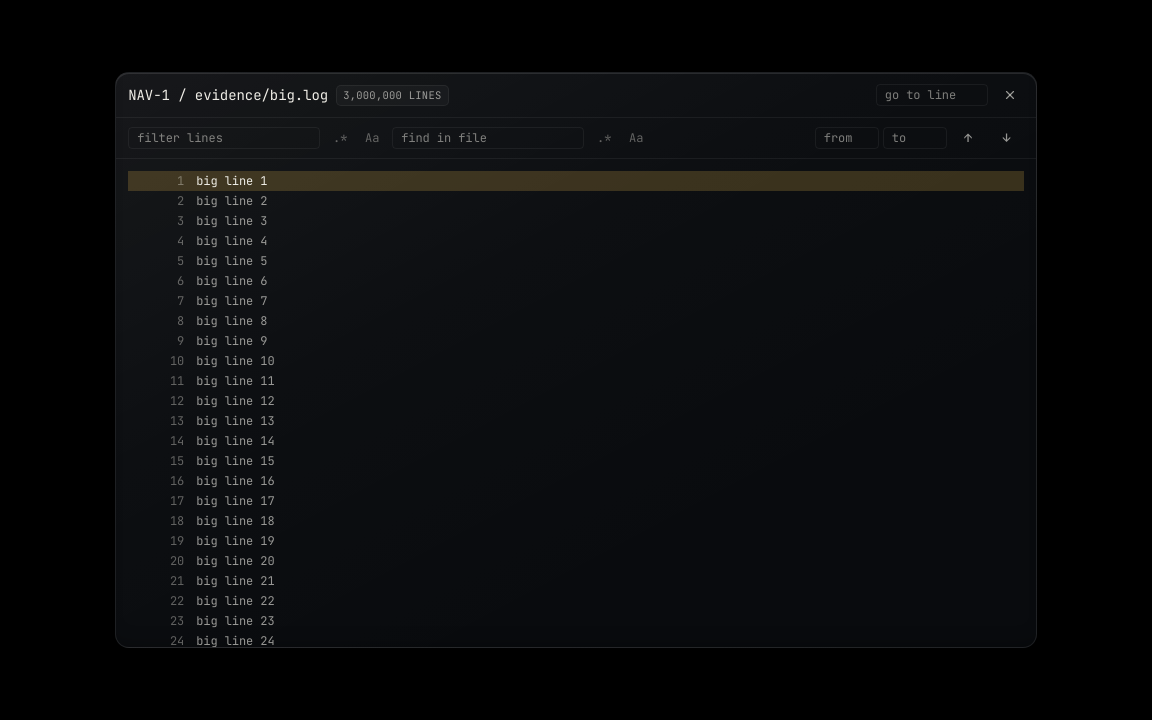
TextViewer › find follows the filter frontier when the filter stream is capped
Type "CTX" into the field with placeholder "filter lines" at {"x": 224, "y": 138}, box [128,127,320,149]
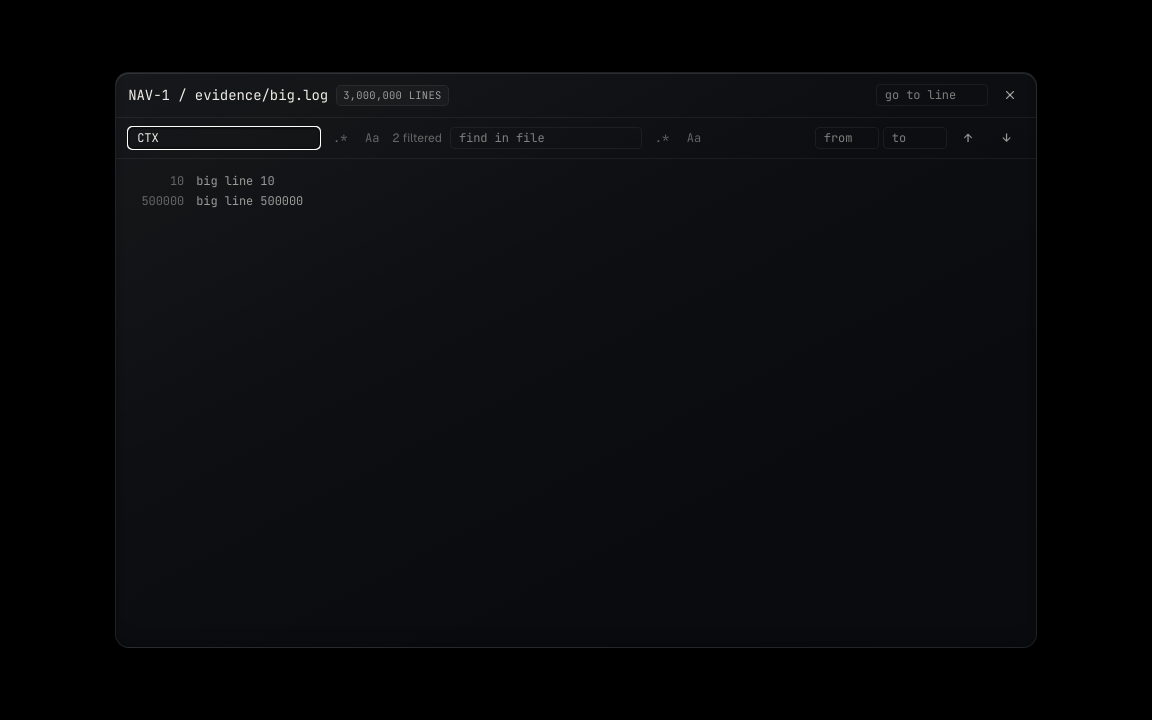
Check: the text "2 filtered" is shown, box [392,130,442,146]
Type "ERROR" into the field with placeholder "find in file" at {"x": 546, "y": 138}, box [450,127,642,149]
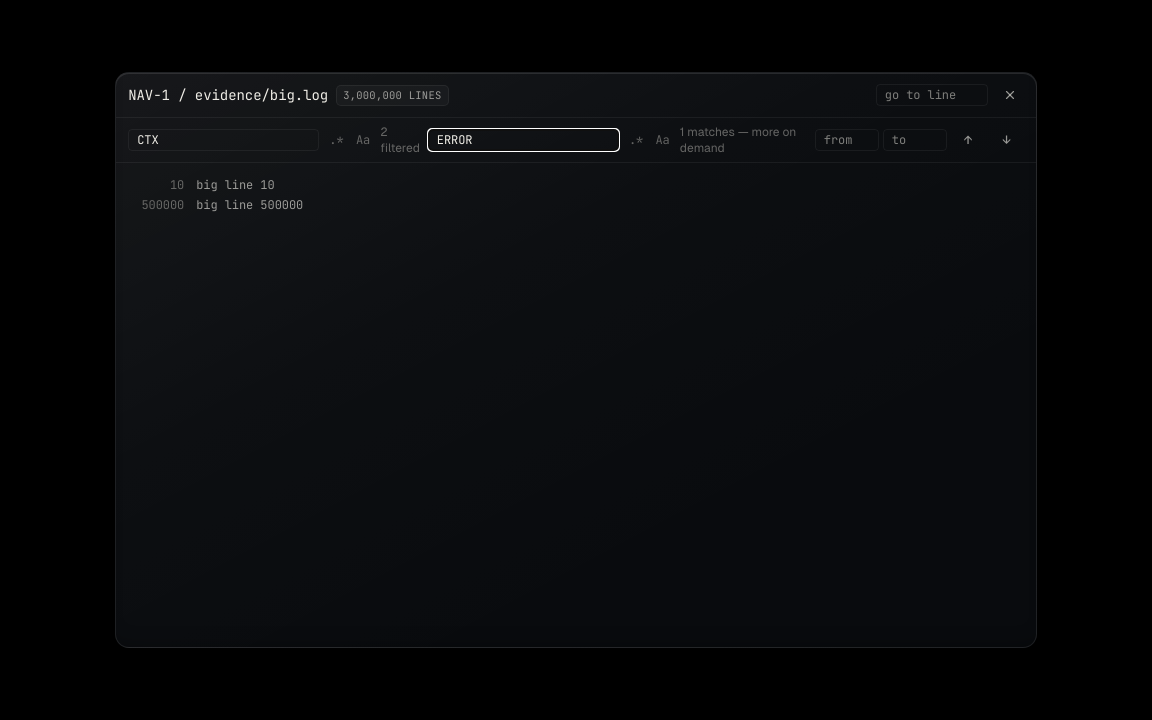
Check: the text "1 matches — more on demand" is shown, box [680,124,807,156]
Click the button "↓" at {"x": 1007, "y": 140}, box [989,126,1024,154]
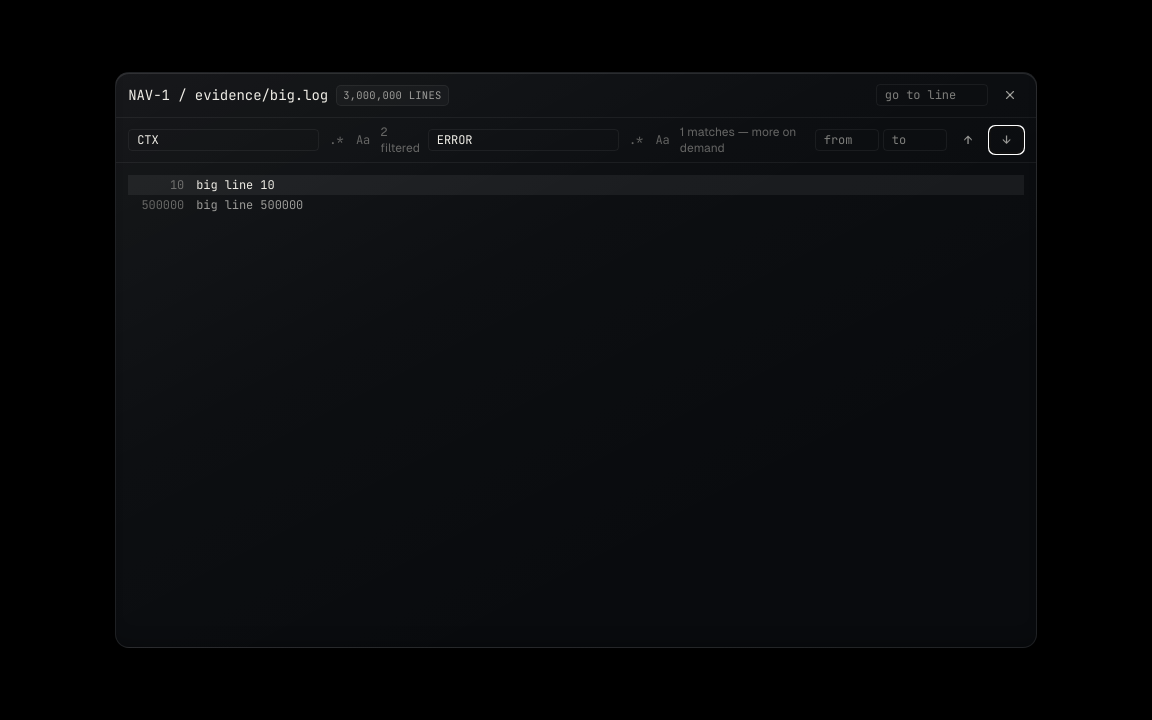
Click the button "↓" at {"x": 1007, "y": 140}, box [989,126,1024,154]
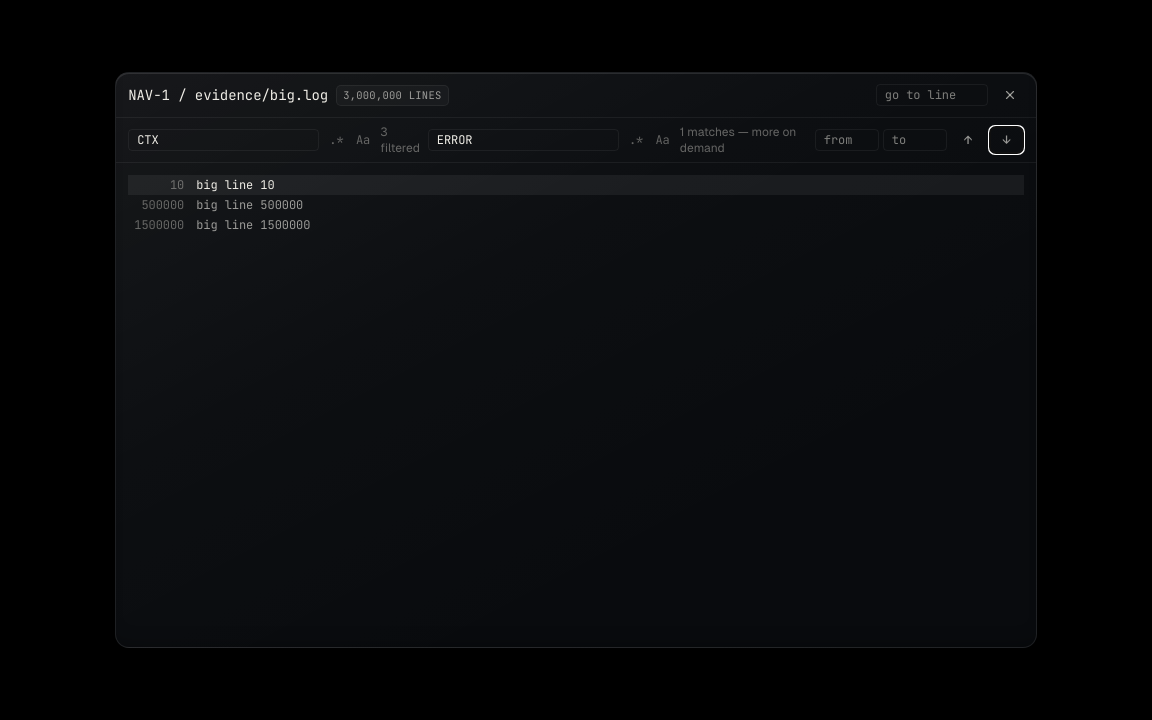
Check: the text "1 matches — more on demand" is shown, box [680,124,807,156]
Check: the text "3 filtered" is shown, box [380,124,420,156]
Click the button "↓" at {"x": 1007, "y": 140}, box [989,126,1024,154]
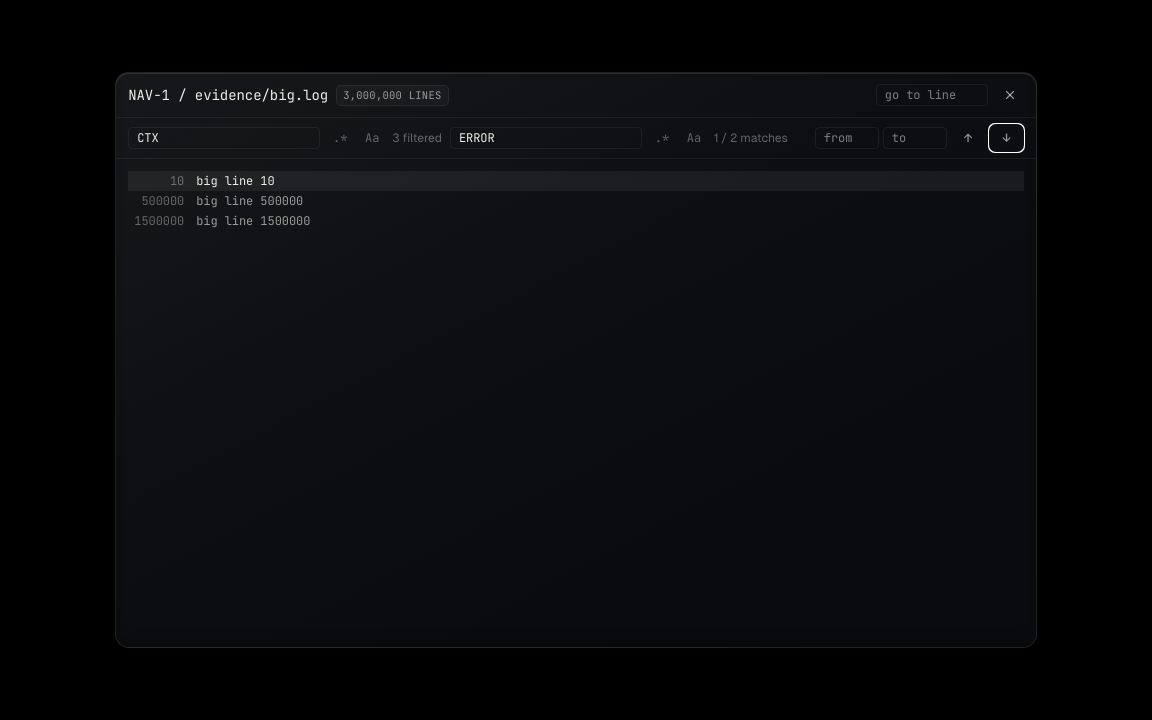
Check: the text "1 / 2 matches" is shown, box [714,130,788,146]
Click the button "↓" at {"x": 1007, "y": 138}, box [989,124,1024,152]
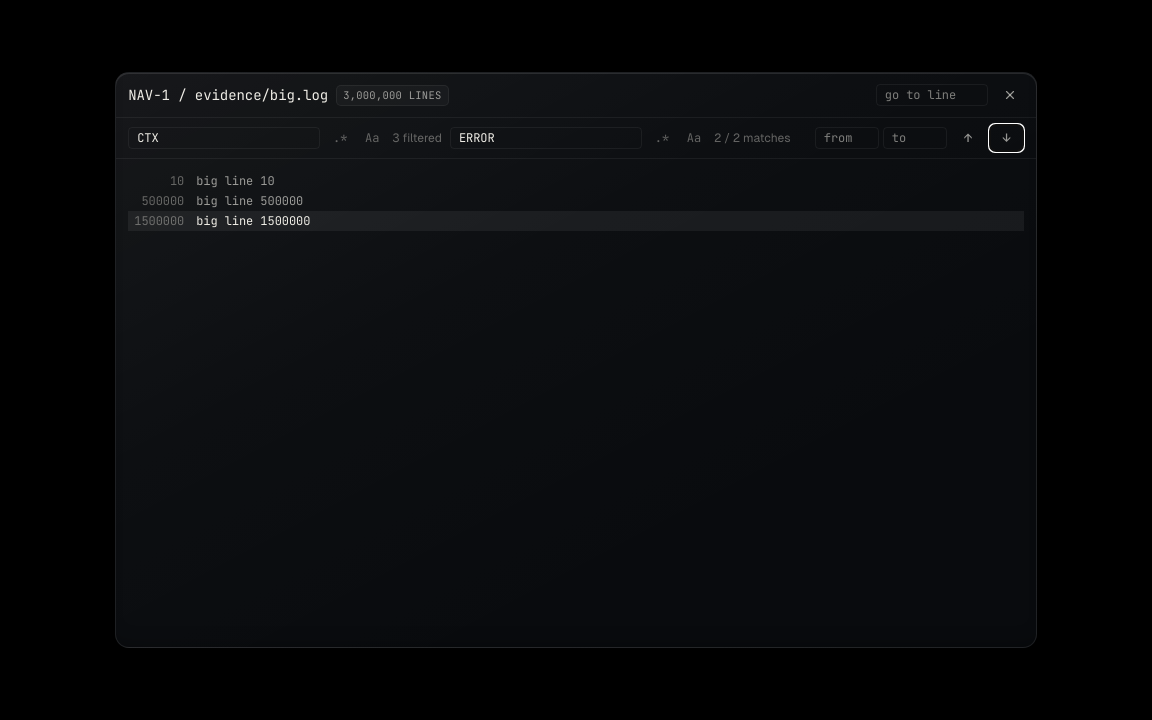
Check: the element showing "1500000 big line 1500000" is shown, box [128,211,1024,231]
Check: the text "2 / 2 matches" is shown, box [714,130,791,146]
